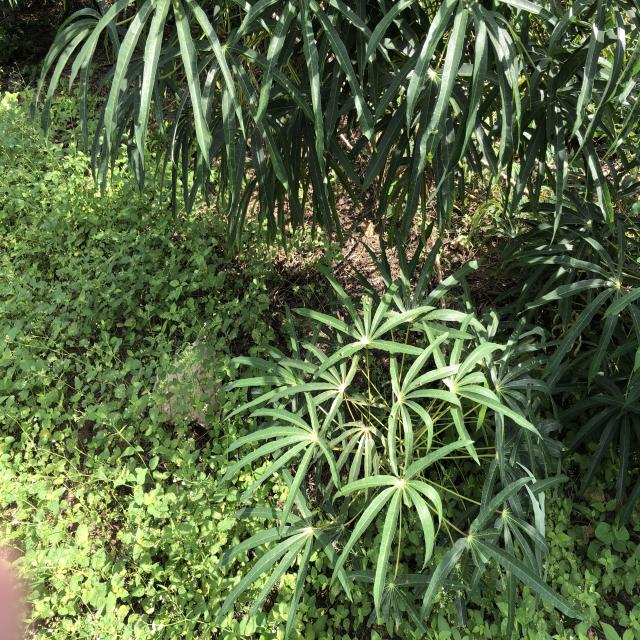Maleza: (4, 166, 227, 485), (43, 424, 222, 640), (568, 545, 640, 640)
Mosca: (387, 409, 413, 425), (425, 147, 440, 171), (211, 79, 228, 96), (470, 127, 485, 142), (429, 125, 443, 138), (414, 378, 424, 392), (334, 350, 347, 360), (314, 364, 324, 377), (515, 359, 524, 370)
